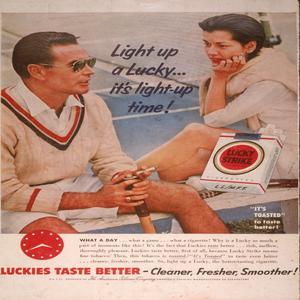cigarette: (137, 164, 159, 175)
